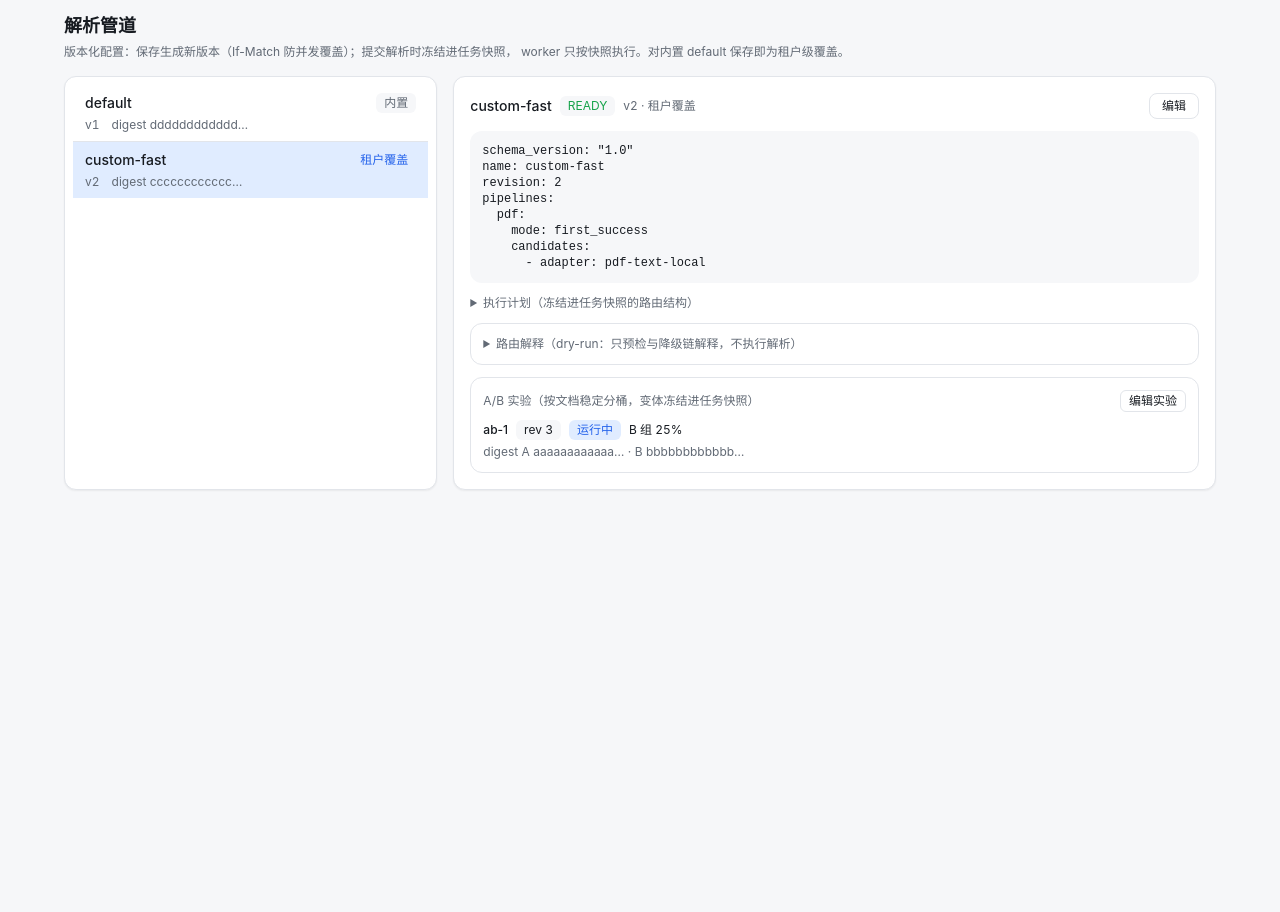
Test case: 解析管道页 › 已有实验：展示 revision/流量/状态，编辑时预填变体 YAML
Expected: the element with test id "pipeline-experiment" shows "rev 3", [483,420,744,459]
Expected: the element with test id "pipeline-experiment" shows "B 组 25%", [483,420,744,459]
Click the button "编辑实验": click(1153, 401) [1120,390,1186,412]
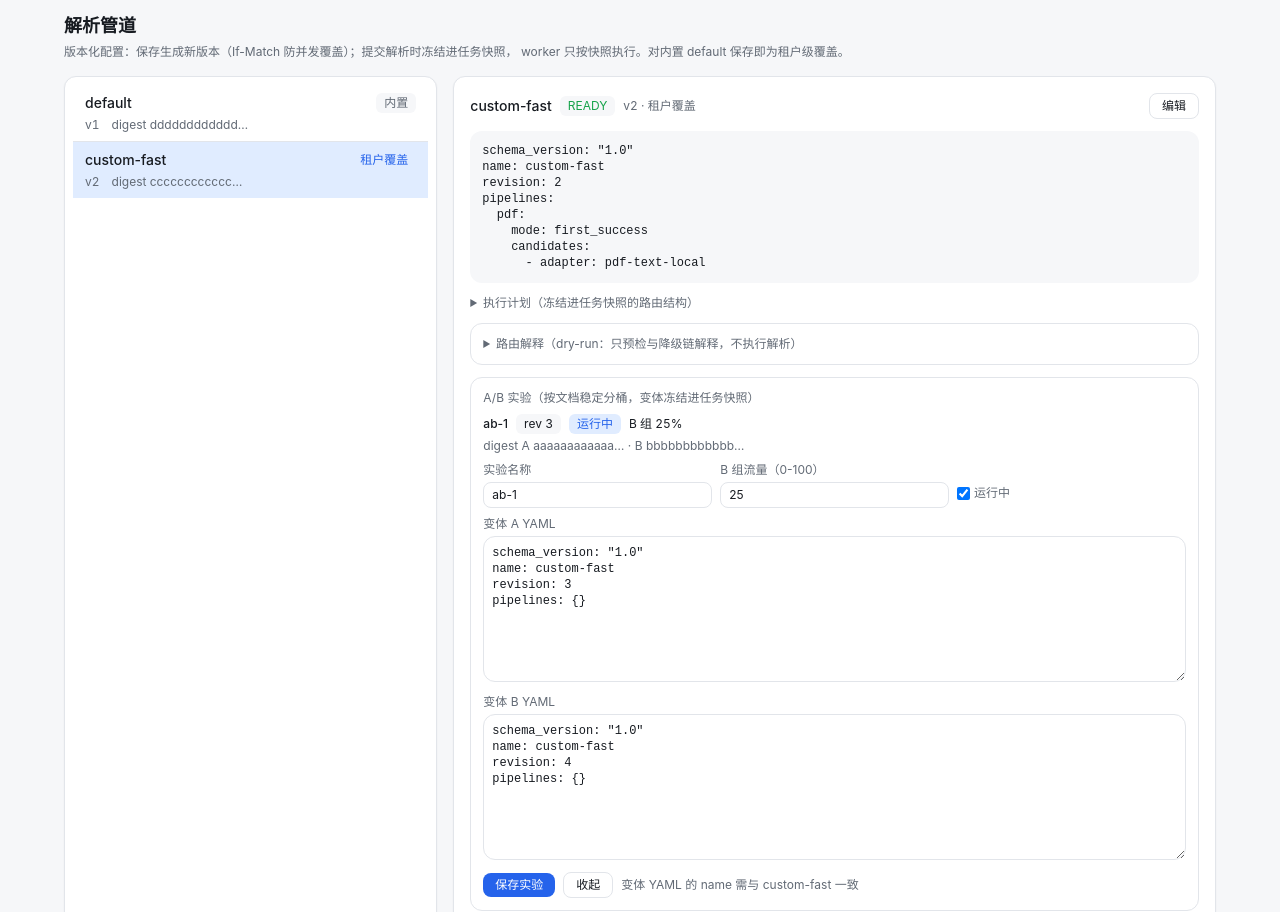
Result: the field labelled "实验名称" holds "ab-1" at [483,482,712,508]
Result: the number field labelled "B 组流量" holds "25" at [720,482,949,508]
